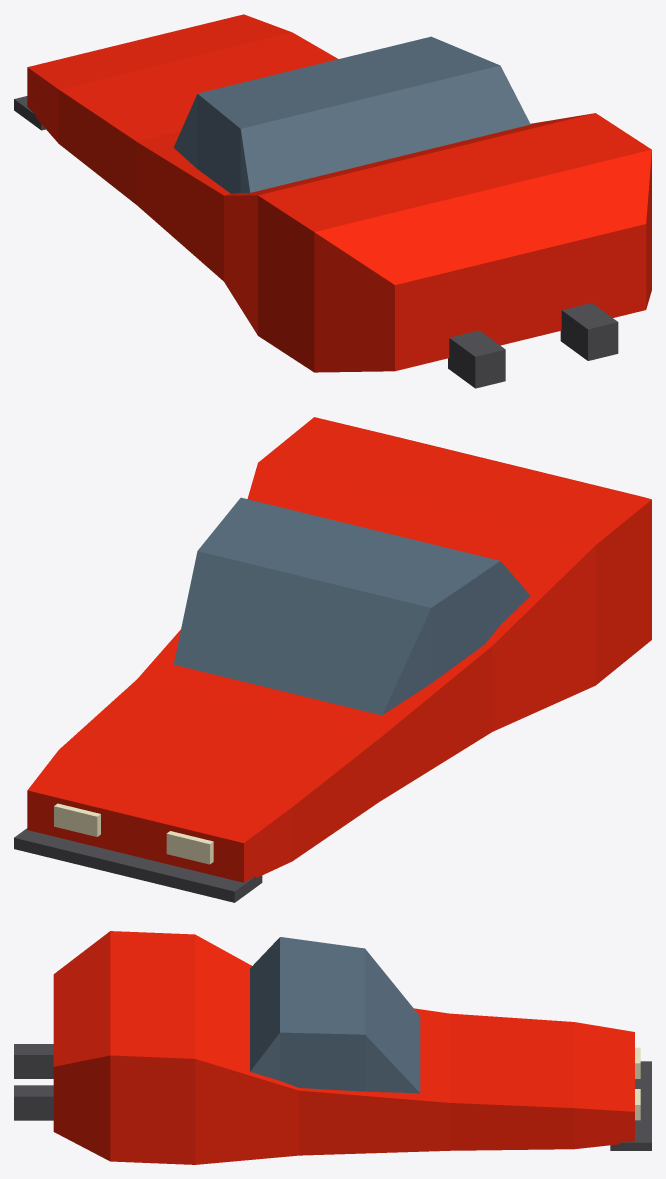
The model's file is D_Cartoon_Body.fbx.
3 renders of one model, top to bottom at view 1: azimuth 30°, elevation 25°; view 2: azimuth 150°, elevation 25°; view 3: azimuth 270°, elevation 25°, orthographic. The views are drawn at different scales.
Parts seen in each view (by area): view 1: C_Cartoon_Body.003, C_Cartoon_Canopy.001, C_Cartoon_Exhaust_R.001, C_Cartoon_Exhaust_L.001; view 2: C_Cartoon_Body.003, C_Cartoon_Canopy.001, C_Cartoon_Splitter.001, C_Cartoon_Light_L.001, C_Cartoon_Light_R.001; view 3: C_Cartoon_Body.003, C_Cartoon_Canopy.001, C_Cartoon_Splitter.001, C_Cartoon_Exhaust_R.001, C_Cartoon_Exhaust_L.001.
Boxes of the visible parts, box(x1,y1,x2,y2) form: C_Cartoon_Body.003: box(27, 14, 651, 372); C_Cartoon_Canopy.001: box(173, 36, 530, 193); C_Cartoon_Exhaust_R.001: box(560, 303, 618, 360); C_Cartoon_Exhaust_L.001: box(448, 330, 505, 388); C_Cartoon_Body.003: box(27, 417, 651, 882); C_Cartoon_Canopy.001: box(173, 497, 530, 715); C_Cartoon_Splitter.001: box(14, 828, 262, 902); C_Cartoon_Light_L.001: box(166, 831, 213, 864); C_Cartoon_Light_R.001: box(54, 803, 100, 836); C_Cartoon_Body.003: box(53, 931, 634, 1164); C_Cartoon_Canopy.001: box(250, 937, 420, 1093); C_Cartoon_Splitter.001: box(610, 1061, 651, 1150); C_Cartoon_Exhaust_R.001: box(14, 1085, 53, 1120); C_Cartoon_Exhaust_L.001: box(14, 1044, 53, 1078).
Size of the model in its own units: 156 by 73.5 by 338.
